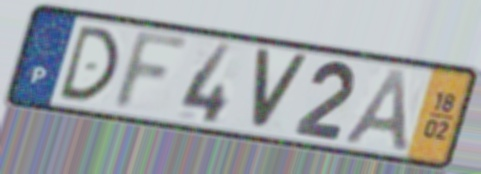2: (290, 58, 360, 145)
4: (176, 39, 234, 128)
A: (340, 65, 412, 156)
D: (54, 22, 121, 104)
F: (107, 28, 196, 116)
V: (250, 45, 313, 135)
